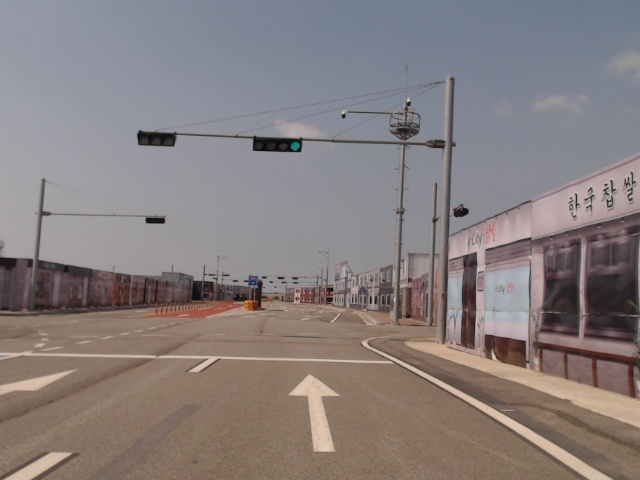straight_green_4: (253, 137, 303, 153)
